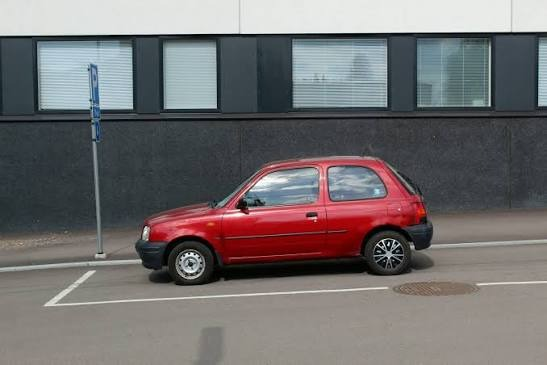car: (142, 157, 440, 279)
